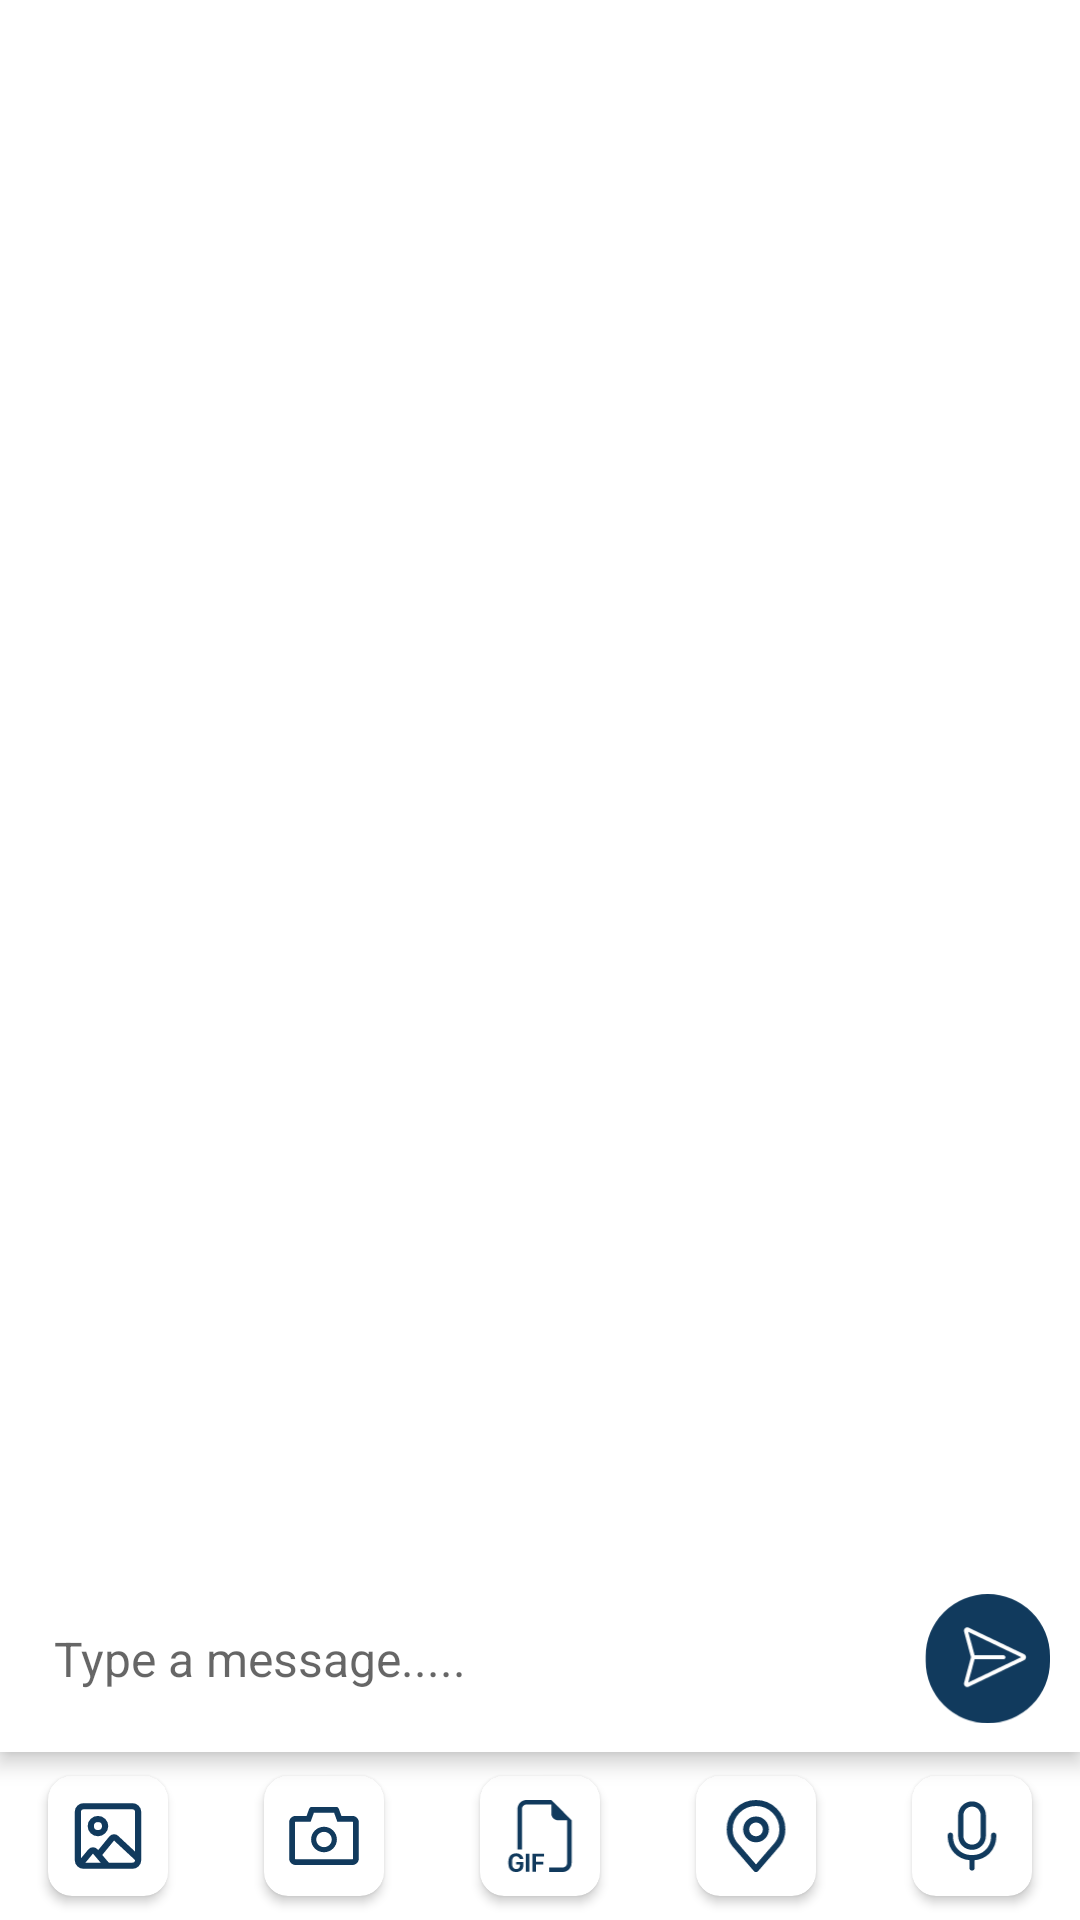

Icons on this 1080px×1920px Android screen, each with its box as (x1, y1, x2, y2):
camera: (289, 1807, 383, 1882)
gallery: (48, 1803, 166, 1896)
location: (698, 1800, 816, 1896)
send: (925, 1594, 1050, 1723)
sound: (914, 1801, 1032, 1896)
